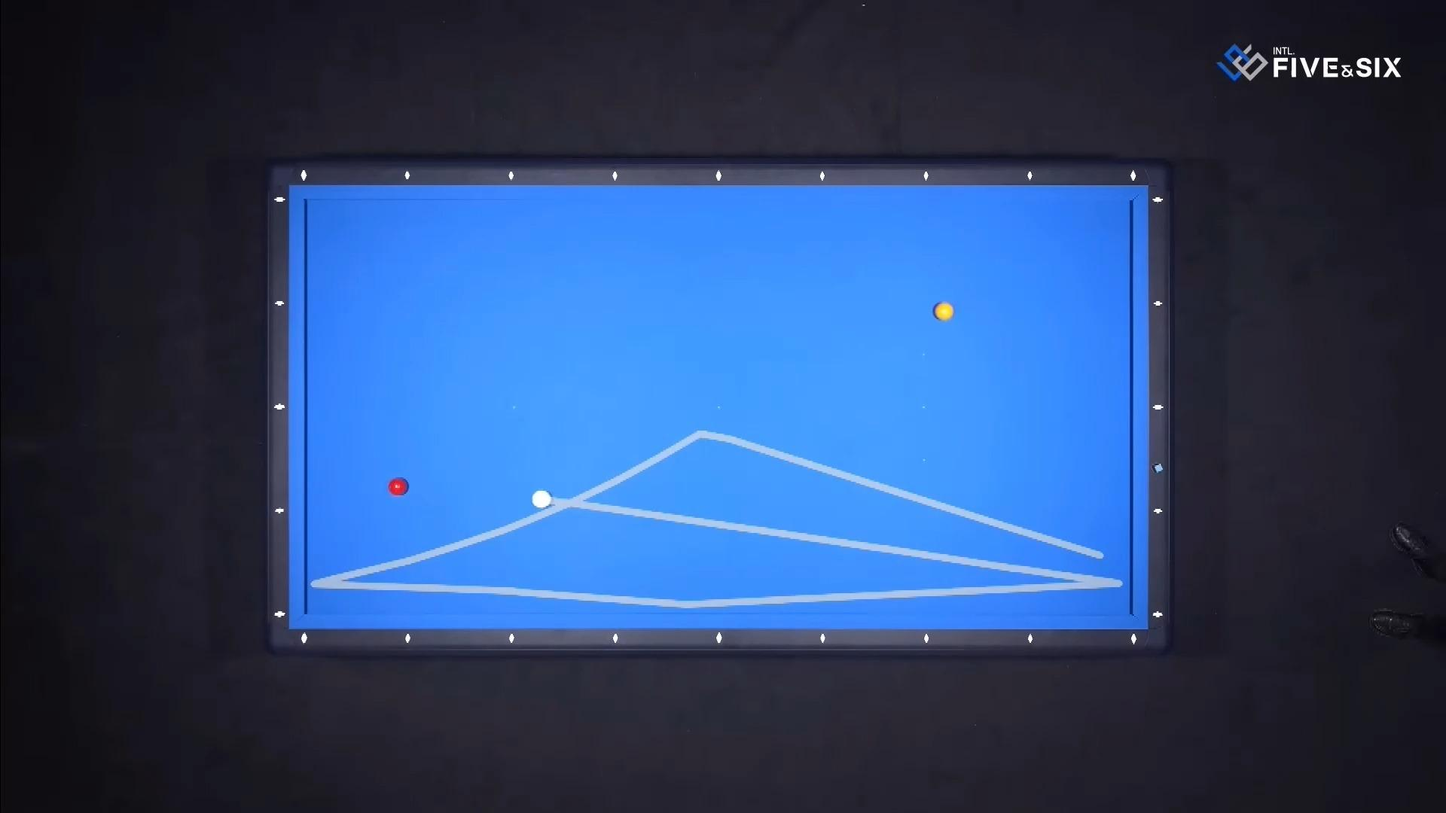Red: (385, 480, 410, 498)
White: (532, 489, 557, 509)
Yellow: (933, 303, 959, 323)
